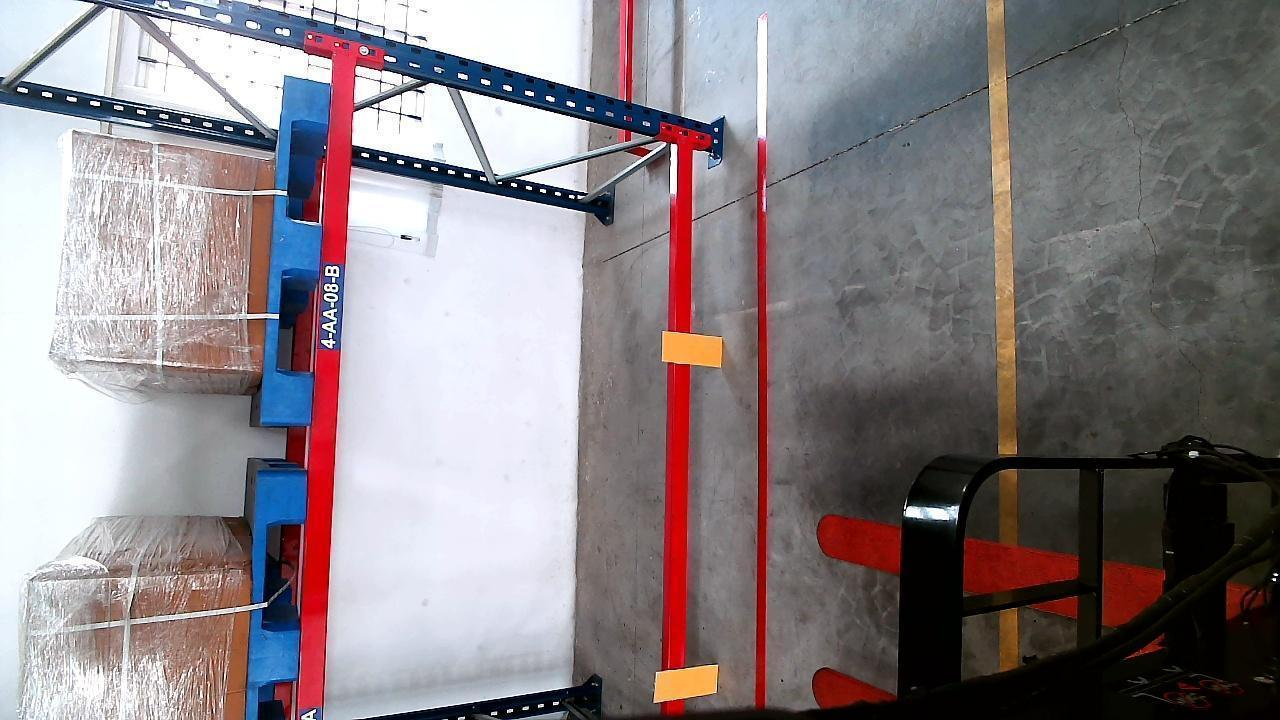red_line: (750, 18, 778, 706)
yellow_line: (989, 0, 1020, 675)
